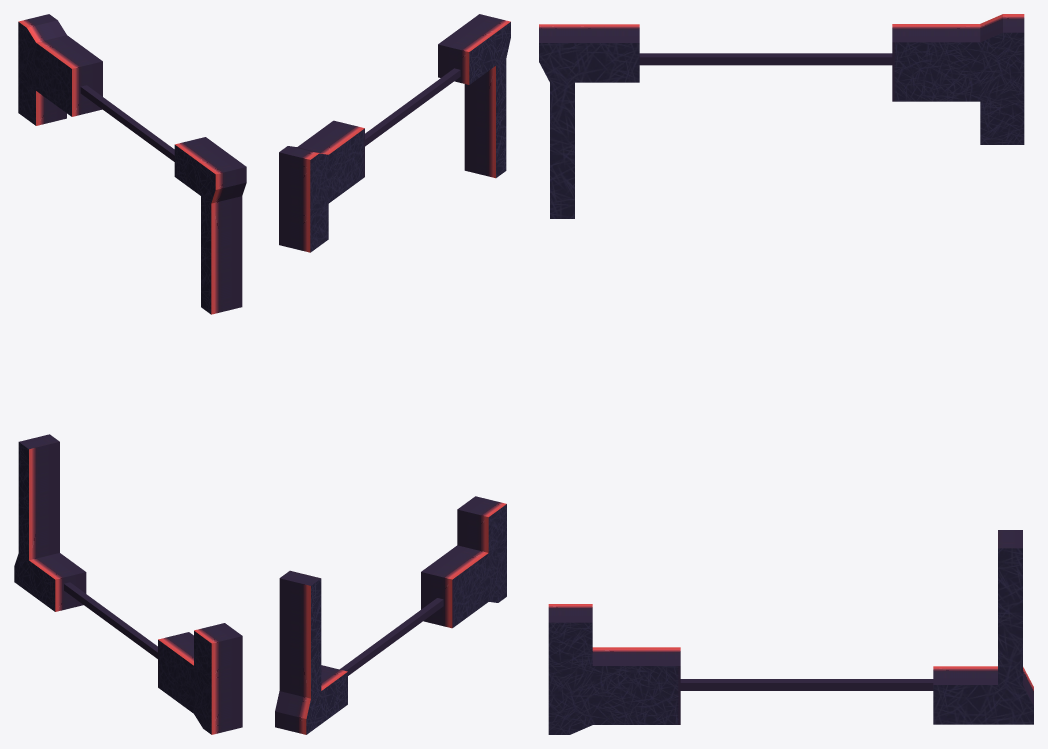
The model's file is frame-art.glb.
3 views of the same model, side by side, from view 1: azimuth 30°, elevation 25°; view 2: azimuth 150°, elevation 25°; view 3: azimuth 270°, elevation 25° (orthographic). The views are drawn at different scales.
Parts seen in each view (by area): view 1: Frame_Art; view 2: Frame_Art; view 3: Frame_Art.
Boxes of the visible parts, x1=… form: Frame_Art: x1=14, y1=14, x2=246, y2=734; Frame_Art: x1=275, y1=14, x2=510, y2=734; Frame_Art: x1=539, y1=14, x2=1033, y2=734.
Bounding box in the file's own units: 0.2017 × 3.55 × 2.27.
1 material, 1 textured.
